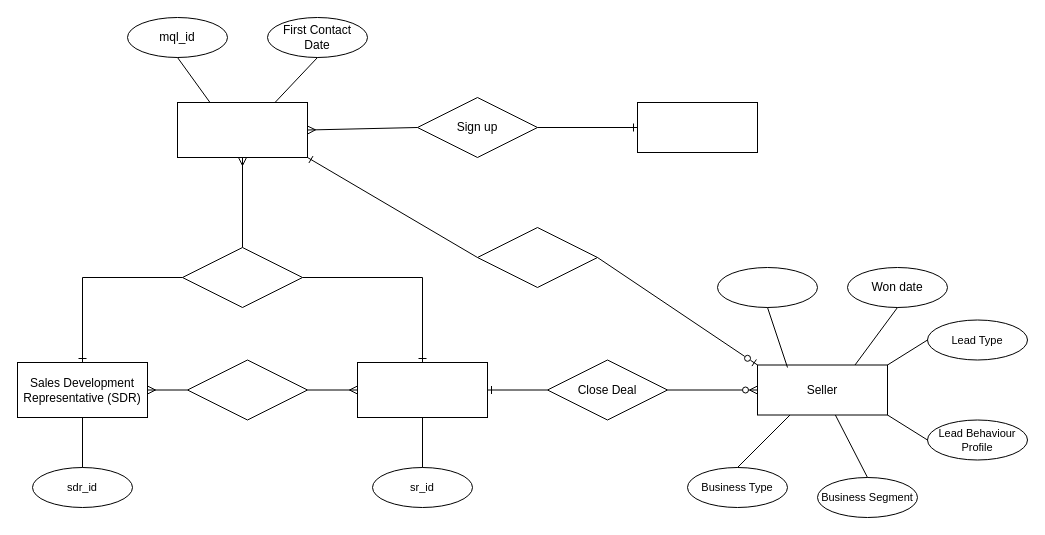
The diagram is 1045 pixels wide and 535 high, and some of its shapes have lost their labels. Here are the shapes that lost their labels. From the top down, the centre of each, then its label:
the point at 242,130: Marketing Qualified Lead
the point at 697,127: Origin (Channel)
the point at 242,277: Contacted by
the point at 537,257: Becomes
the point at 767,287: Seller_id
the point at 247,389: Pass lead to
the point at 422,390: Sales Representative (SR)
